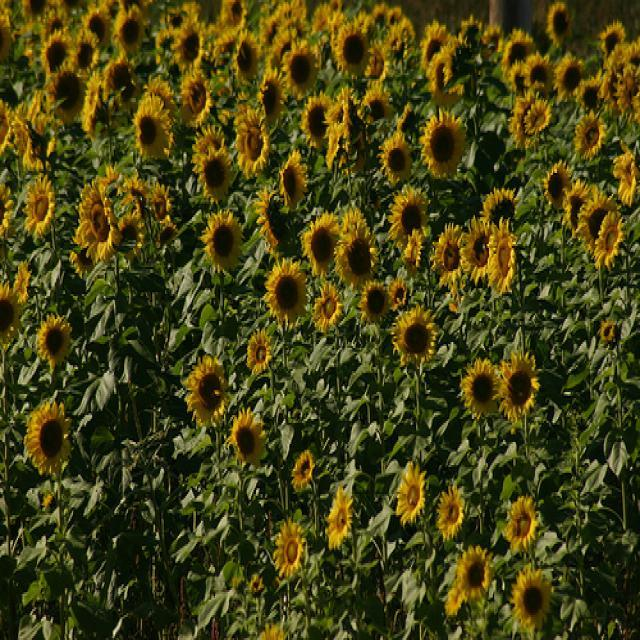sunflower: (24, 401, 70, 474), (492, 351, 539, 422), (418, 109, 465, 177), (333, 221, 376, 285), (199, 210, 243, 272), (186, 356, 227, 422), (76, 188, 116, 254), (265, 258, 306, 322), (510, 565, 550, 628), (460, 216, 495, 286), (460, 358, 501, 416), (392, 306, 436, 360), (282, 40, 319, 100), (133, 97, 169, 158), (431, 222, 464, 287), (271, 516, 305, 578), (235, 110, 269, 172), (577, 192, 616, 245), (36, 314, 74, 368), (396, 460, 426, 526), (457, 544, 492, 600), (228, 407, 263, 462), (505, 494, 537, 554), (303, 219, 335, 276), (377, 132, 412, 184), (26, 175, 55, 237), (49, 69, 82, 123), (491, 217, 515, 291), (327, 483, 353, 551), (259, 184, 287, 247), (278, 151, 308, 209), (594, 210, 624, 268), (198, 147, 231, 199), (300, 91, 330, 148), (191, 122, 225, 172), (180, 73, 212, 126), (436, 482, 464, 542), (508, 93, 539, 147), (259, 65, 287, 124), (336, 24, 369, 74), (430, 53, 462, 102), (313, 283, 343, 335), (41, 28, 75, 72), (172, 24, 203, 72), (574, 110, 604, 159), (391, 190, 424, 234), (443, 40, 469, 94), (357, 280, 390, 322), (612, 152, 638, 205), (421, 20, 452, 64), (233, 30, 259, 82), (563, 179, 590, 228), (545, 160, 571, 209), (613, 65, 640, 112), (483, 186, 514, 226), (361, 79, 392, 119), (554, 55, 582, 99), (0, 282, 19, 346), (84, 6, 114, 43), (246, 330, 272, 372), (102, 60, 130, 97), (547, 3, 571, 45), (82, 76, 100, 131), (526, 51, 553, 87), (118, 212, 145, 247), (525, 98, 551, 134), (326, 87, 350, 126), (72, 32, 95, 72), (0, 182, 15, 243), (148, 181, 171, 220), (600, 20, 626, 52), (115, 17, 140, 50), (292, 449, 314, 486), (508, 29, 534, 60), (363, 47, 388, 79), (600, 68, 622, 103), (13, 262, 32, 302), (124, 175, 147, 208), (155, 218, 179, 248), (577, 78, 599, 109), (150, 75, 173, 104), (503, 42, 523, 75), (509, 64, 532, 92), (444, 586, 464, 616), (342, 208, 367, 232), (45, 10, 70, 33), (224, 0, 246, 25), (93, 166, 120, 186), (390, 278, 406, 311), (404, 235, 419, 268), (397, 104, 416, 130), (624, 36, 640, 66), (462, 18, 480, 44), (482, 26, 502, 49), (0, 99, 9, 150), (600, 322, 617, 342)
